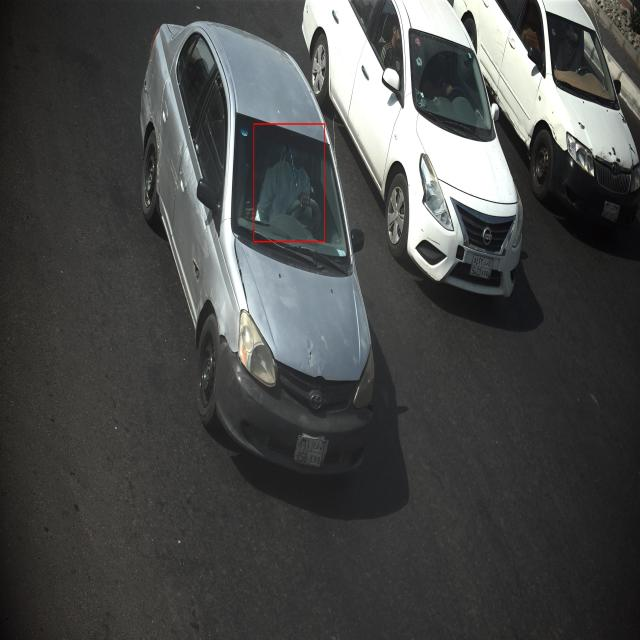windshield: (230, 108, 353, 282), (404, 26, 497, 148), (544, 6, 624, 114)
